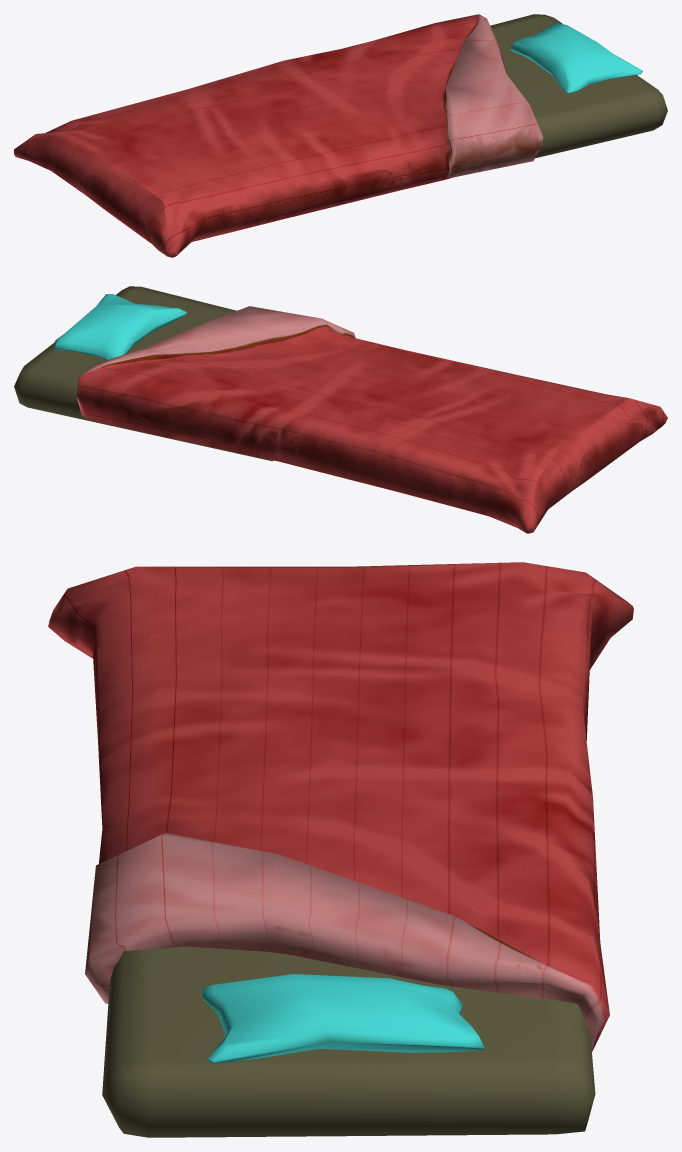
File: Lit_Camp_LOD01.FBX
3 views of the same model, one above another, from view 1: azimuth 30°, elevation 25°; view 2: azimuth 150°, elevation 25°; view 3: azimuth 270°, elevation 25° (orthographic). The views are drawn at different scales.
Parts seen in each view (by area): view 1: Lit_Camp_LP_LOD01; view 2: Lit_Camp_LP_LOD01; view 3: Lit_Camp_LP_LOD01.
Part boxes in pixels (left/top/right/bottom): Lit_Camp_LP_LOD01: left=14, top=14, right=667, bottom=257; Lit_Camp_LP_LOD01: left=14, top=286, right=667, bottom=533; Lit_Camp_LP_LOD01: left=48, top=562, right=633, bottom=1137.
Bounding box in the file's own units: 151 × 15.81 × 72.22.
